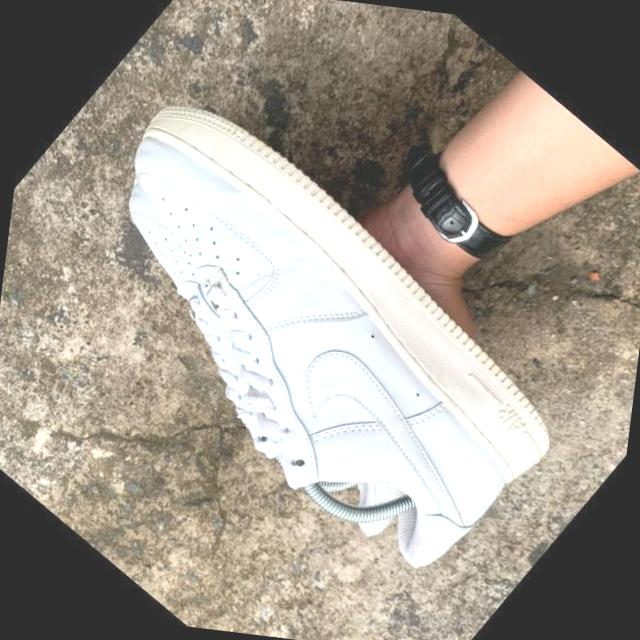nike_fake_airforce: (0, 59, 617, 618)
